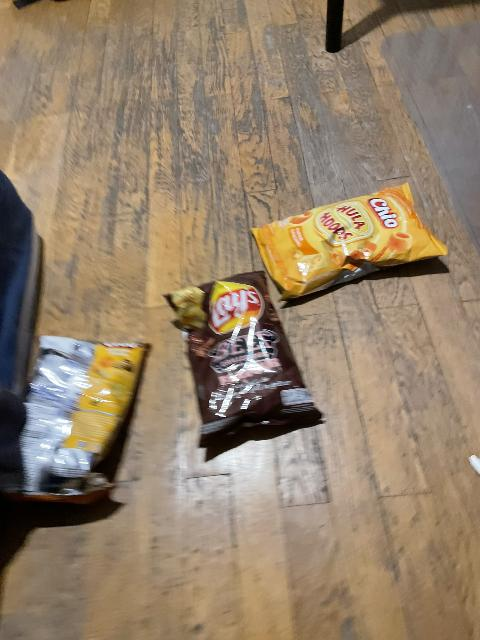Chio Cascaval 125g: (6, 334, 151, 501)
Chio Hula Hoops Cheese 70g: (255, 183, 449, 294)
Lays Beef Grilled Ribs 125g: (169, 277, 328, 439)
